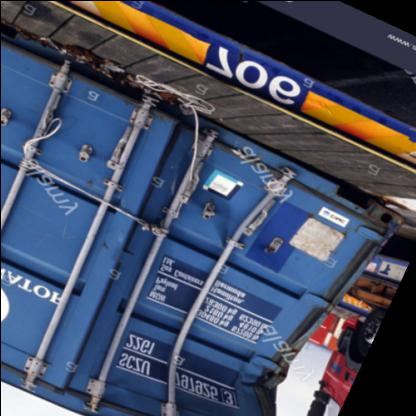Damage: (234, 200, 402, 413)
